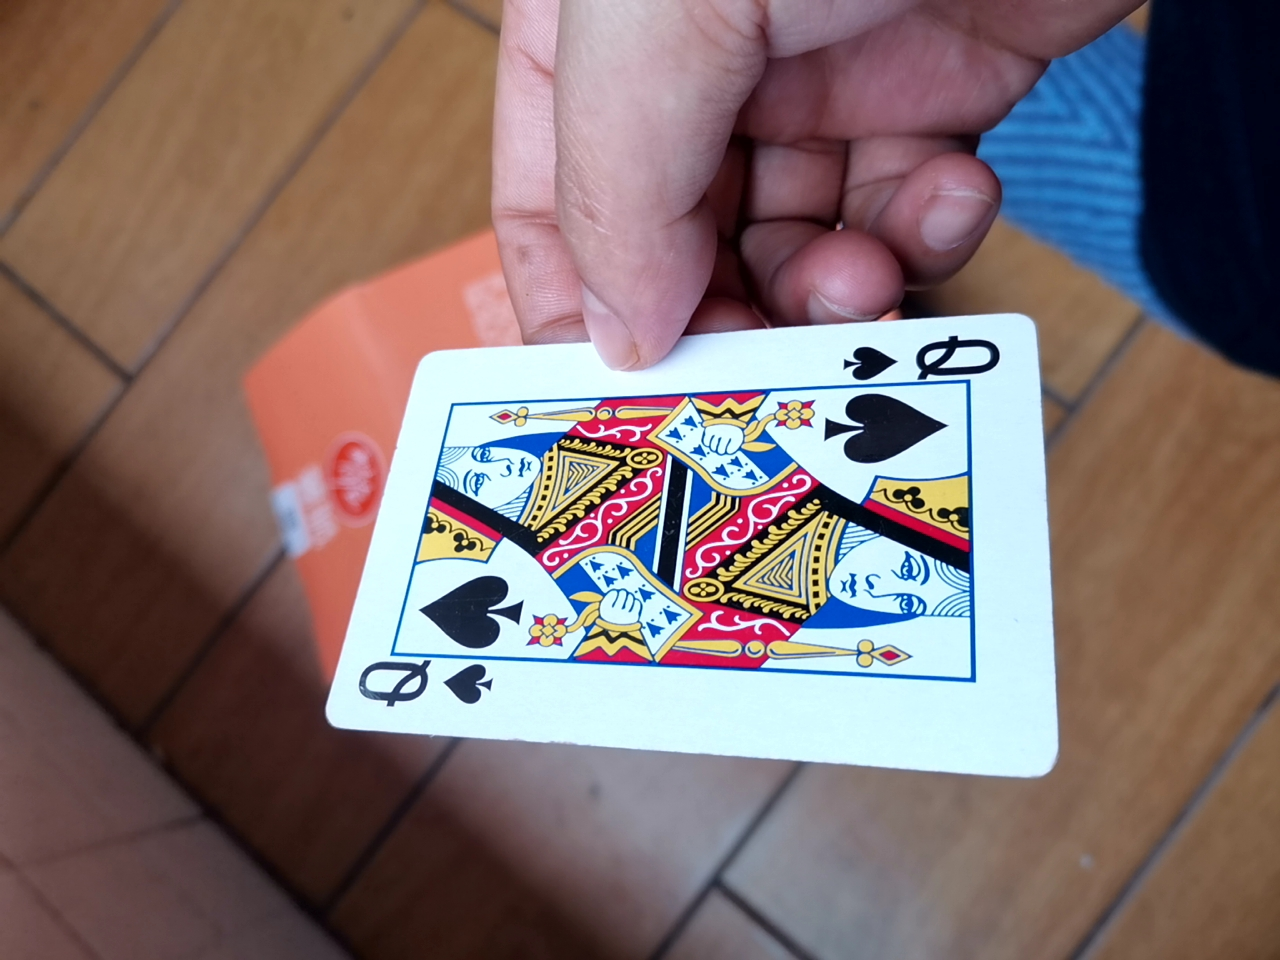ht q: (312, 307, 1060, 774)
